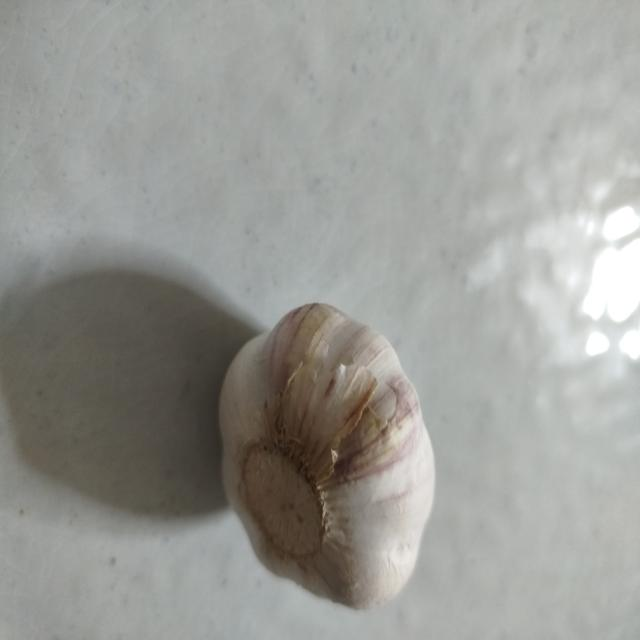garlic: (218, 301, 436, 610)
